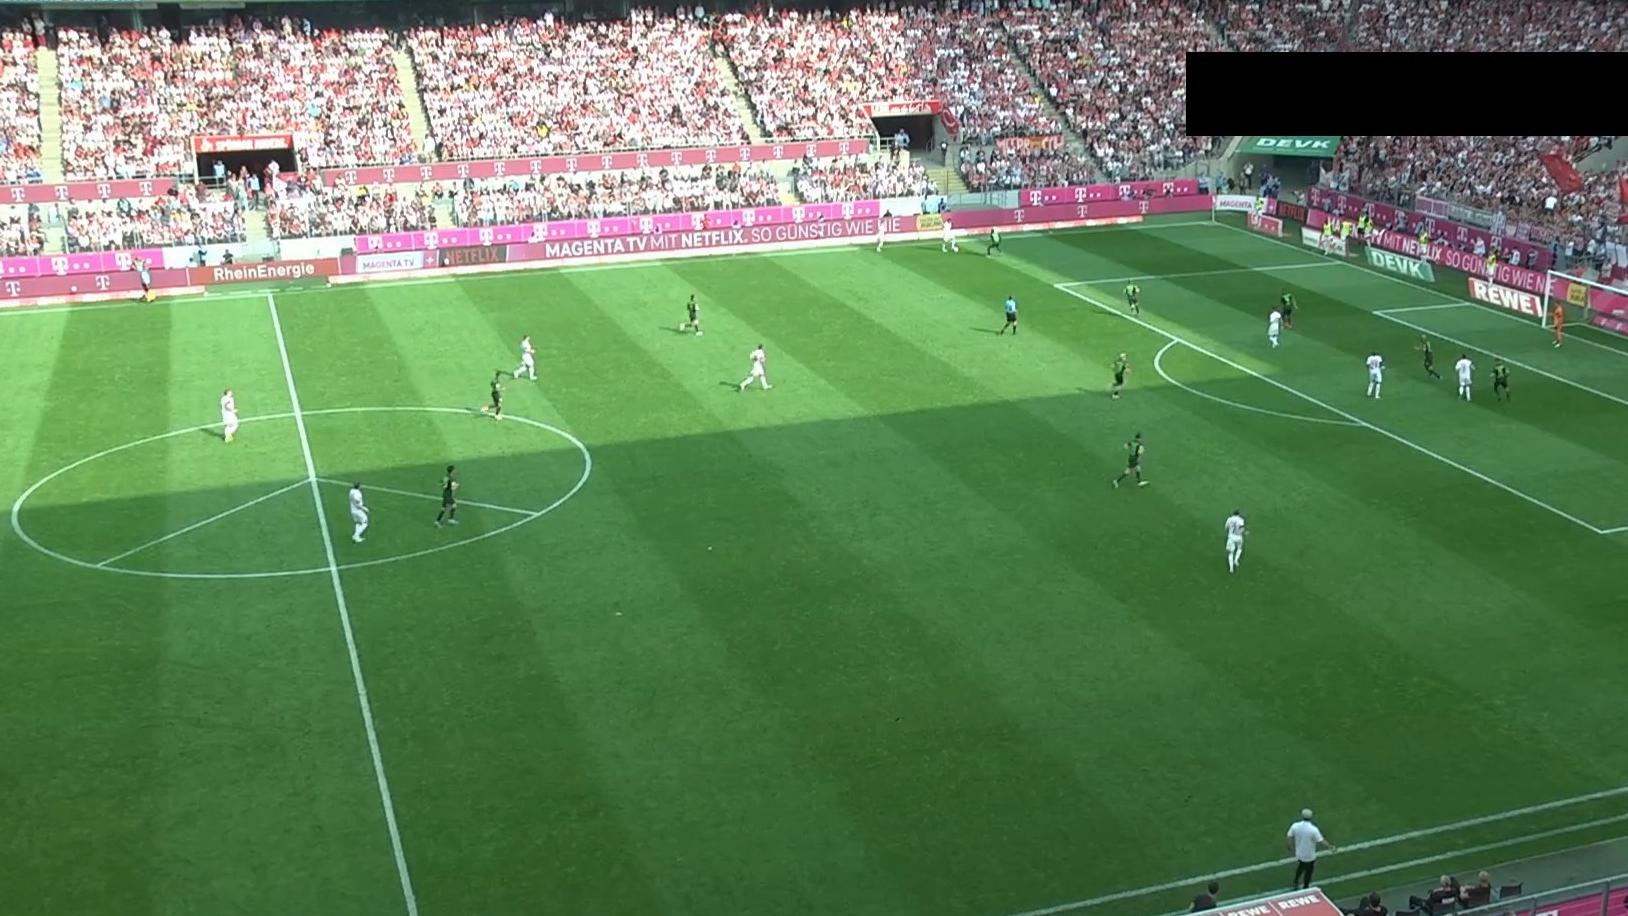ball: (953, 246, 960, 252)
